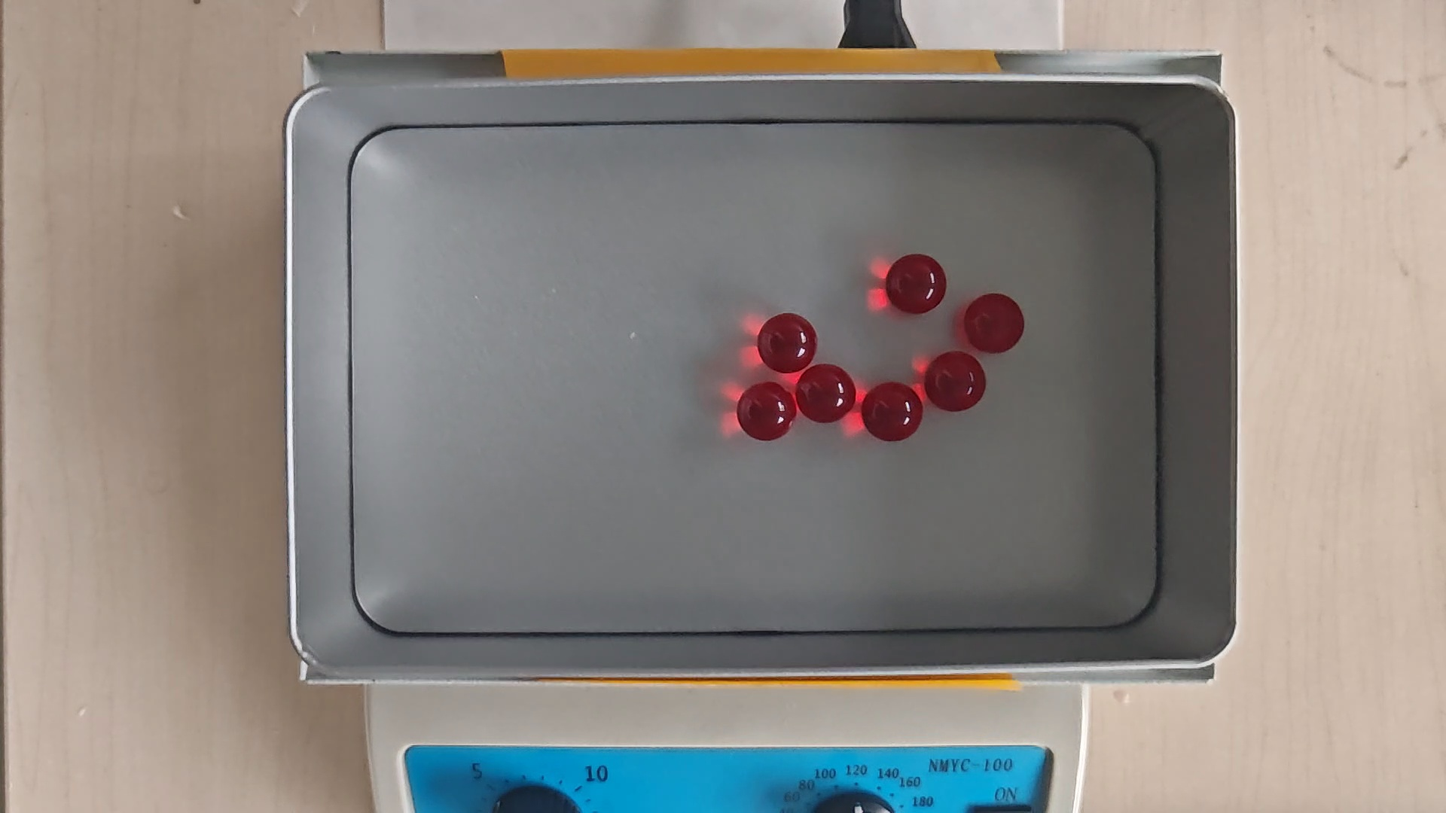ball: (926, 353, 987, 413), (963, 293, 1023, 353), (738, 382, 797, 443), (864, 381, 922, 442), (760, 313, 816, 373), (797, 367, 853, 425), (889, 255, 943, 315)
container: (343, 121, 1155, 635)
